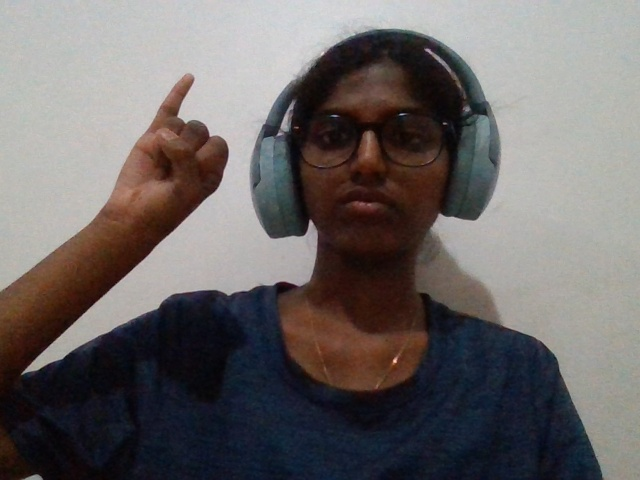I: (94, 65, 253, 281)
